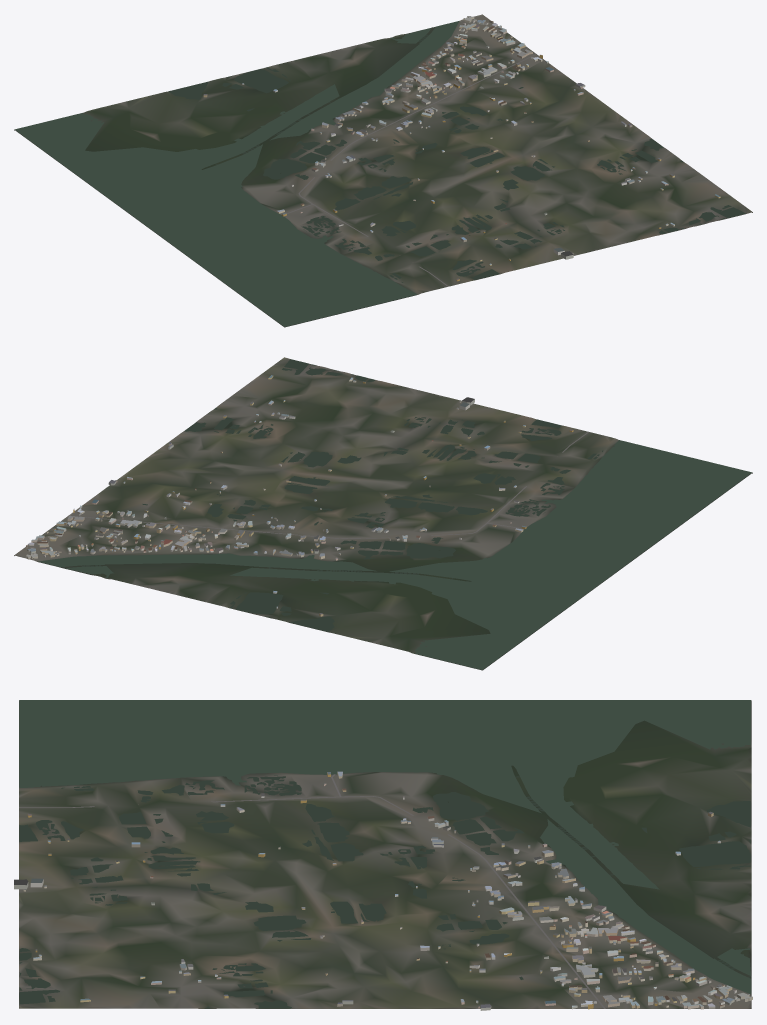
3 views of the same model, one above another, from view 1: azimuth 30°, elevation 25°; view 2: azimuth 150°, elevation 25°; view 3: azimuth 270°, elevation 25° (orthographic). The views are drawn at different scales.
Visible parts, largest first — view 1: ground, water, buildings, roads; view 2: ground, water, buildings, roads; view 3: ground, water, buildings, roads.
Part boxes in pixels (bbox=[...]): ground: bbox=[14, 14, 752, 327]; water: bbox=[15, 21, 745, 326]; buildings: bbox=[203, 16, 720, 281]; roads: bbox=[280, 54, 583, 286]; ground: bbox=[14, 357, 752, 670]; water: bbox=[38, 359, 751, 669]; buildings: bbox=[26, 375, 573, 616]; roads: bbox=[68, 431, 588, 538]; ground: bbox=[19, 700, 751, 1008]; water: bbox=[19, 700, 751, 1008]; buildings: bbox=[14, 771, 752, 1010]; roads: bbox=[19, 774, 605, 1008].
Size of the model in its own units: 1409 by 15.95 by 1413.
